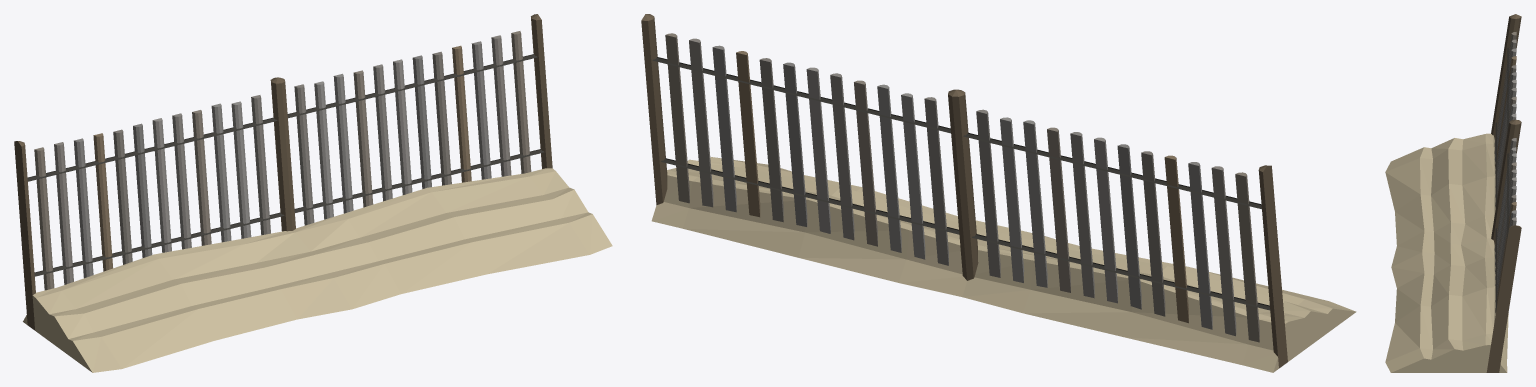
Rendered from dune-fence-run-120153.glb.
3 views of the same model, side by side, from view 1: azimuth 30°, elevation 25°; view 2: azimuth 150°, elevation 25°; view 3: azimuth 270°, elevation 25° (orthographic). The views are drawn at different scales.
Visible parts, largest first — view 1: dune-fence; view 2: dune-fence; view 3: dune-fence.
Boxes of the visible parts, x1=… form: dune-fence: x1=14, y1=14, x2=612, y2=372; dune-fence: x1=641, y1=14, x2=1356, y2=372; dune-fence: x1=1385, y1=14, x2=1521, y2=372.
Size of the model in its own units: 4 by 1.3 by 1.09.
